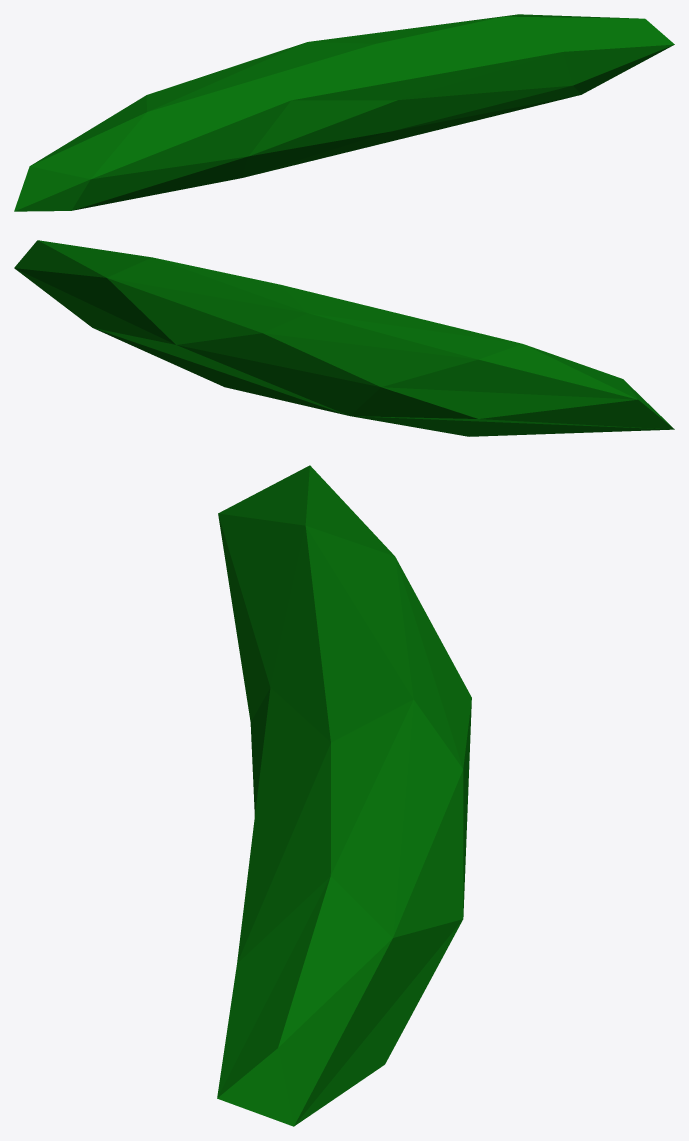
The model's file is cucumber.fbx.
3 renders of one model, top to bottom at view 1: azimuth 30°, elevation 25°; view 2: azimuth 150°, elevation 25°; view 3: azimuth 270°, elevation 25°, orthographic. The views are drawn at different scales.
Visible parts, largest first — view 1: Огурец; view 2: Огурец; view 3: Огурец.
Boxes of the visible parts, x1=… form: Огурец: x1=14, y1=14, x2=674, y2=211; Огурец: x1=14, y1=240, x2=674, y2=436; Огурец: x1=217, y1=465, x2=471, y2=1126.
Bounding box in the file's own units: 32.42 × 4.83 × 5.48.
